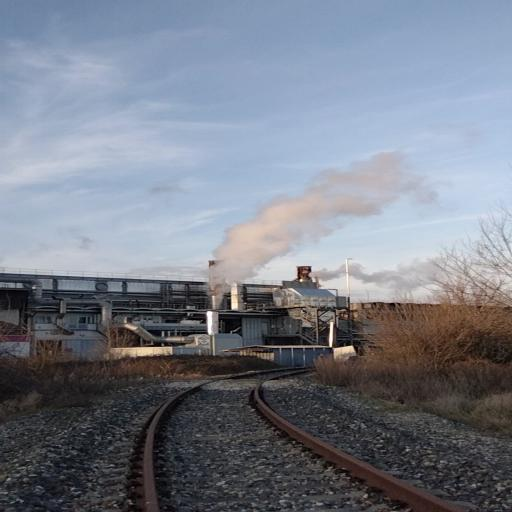leakage: (187, 141, 464, 309), (278, 247, 493, 300)
